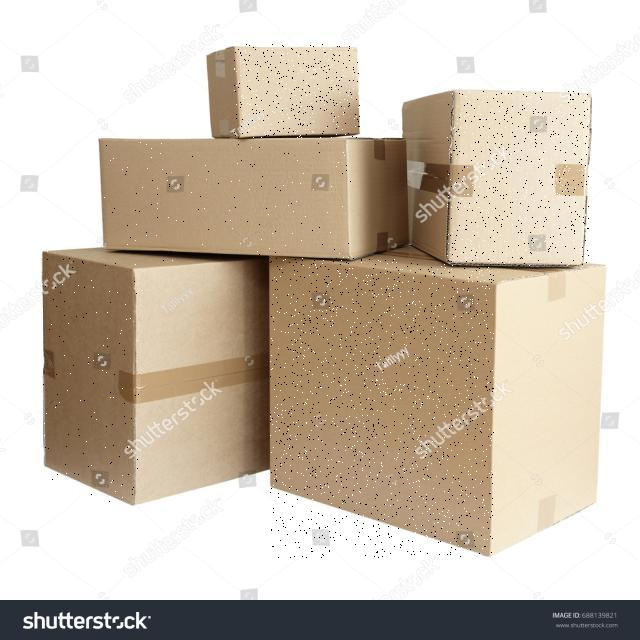BoxFace: (270, 258, 494, 558), (96, 138, 352, 262), (447, 91, 589, 266), (44, 251, 140, 507), (234, 44, 360, 138)
